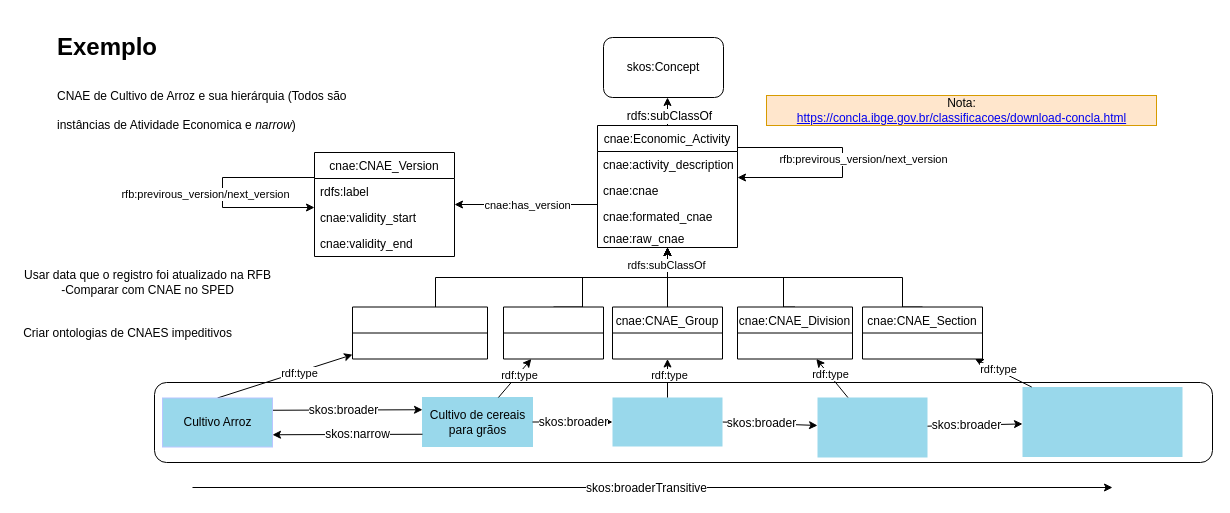
This 1230x513 diagram has some shape labels left out. Each missing label, with the centre of its shape:
"AGRICULTURA, PECUÁRIA E SERVIÇOS RELACIONADOS" goes at pixel 872 427.
"AGRICULTURA, PECUÁRIA, SILVICULTURA E EXPLORAÇÃO FLORESTAL" goes at pixel 1102 421.
"cnae:CNAE_Class" goes at pixel 553 332.
"cnae:CNAE_Subclass" goes at pixel 420 332.
"PRODUÇÃO DE LAVOURAS TEMPORÁRIAS" goes at pixel 667 421.
